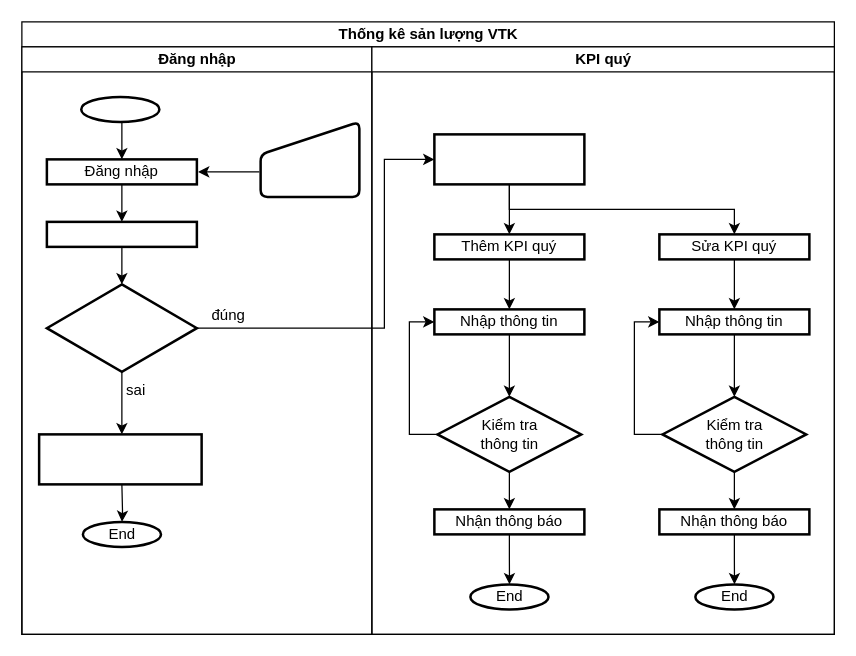
Some shapes in this 856 by 656 pixel diagram are drawn without their labels. The box of each missing label's shape, as (x1, y1, x2, y2) in pixels:
- Tài khoản - Mật khẩu: (259, 120, 360, 198)
Begin: (79, 95, 160, 122)
Danh sách KPI mỗi quý: (432, 132, 585, 185)
Phân quyền: (45, 220, 198, 248)
Thông báo không đủ quyền thêm KPI quý: (37, 432, 202, 485)
user_role bằng 3: (45, 282, 198, 372)
